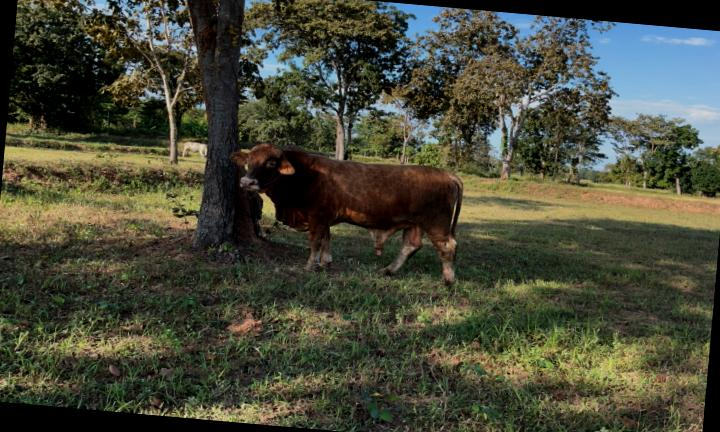Charolais: (230, 143, 463, 285)
